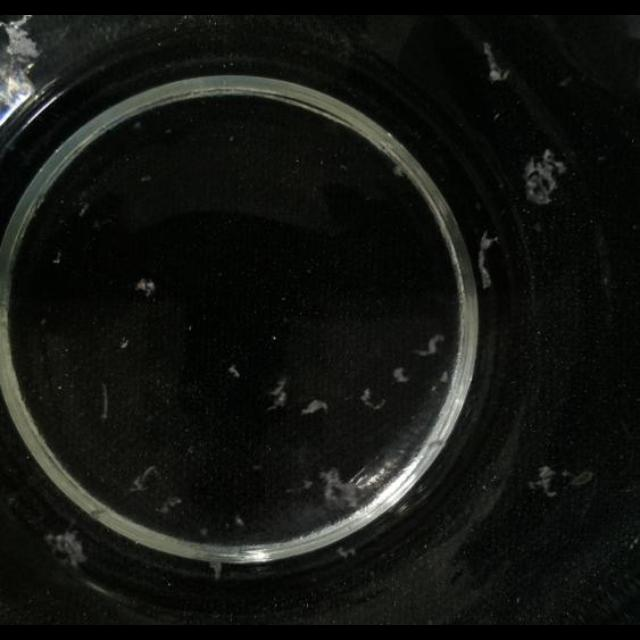Fibre: (123, 462, 189, 522), (288, 464, 366, 514), (524, 150, 568, 204), (528, 464, 594, 498), (44, 529, 88, 569), (476, 232, 500, 290), (484, 42, 511, 82), (127, 465, 161, 495), (412, 334, 446, 358), (266, 378, 288, 410), (359, 388, 385, 410), (300, 399, 328, 416), (134, 277, 156, 297), (390, 162, 408, 178), (336, 546, 356, 560), (209, 560, 223, 578), (78, 203, 90, 217), (228, 366, 240, 378), (52, 252, 62, 264), (119, 338, 129, 348)
microbeads: (392, 368, 410, 384)
